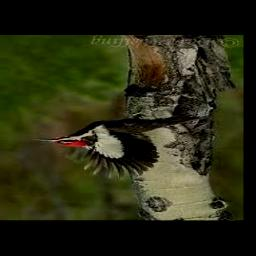Woodpecker: (34, 112, 207, 179)
